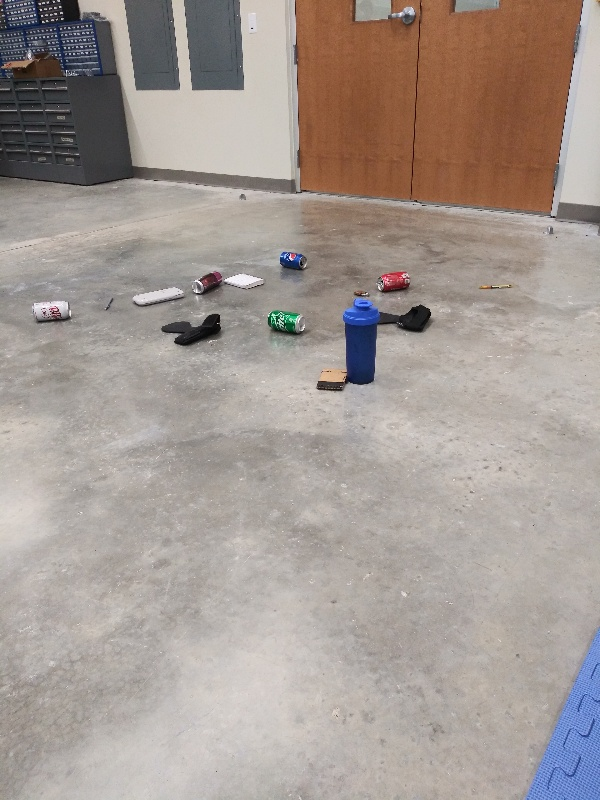can: (264, 307, 308, 335), (28, 297, 73, 323), (375, 268, 412, 292), (191, 270, 225, 296), (277, 250, 310, 270)
